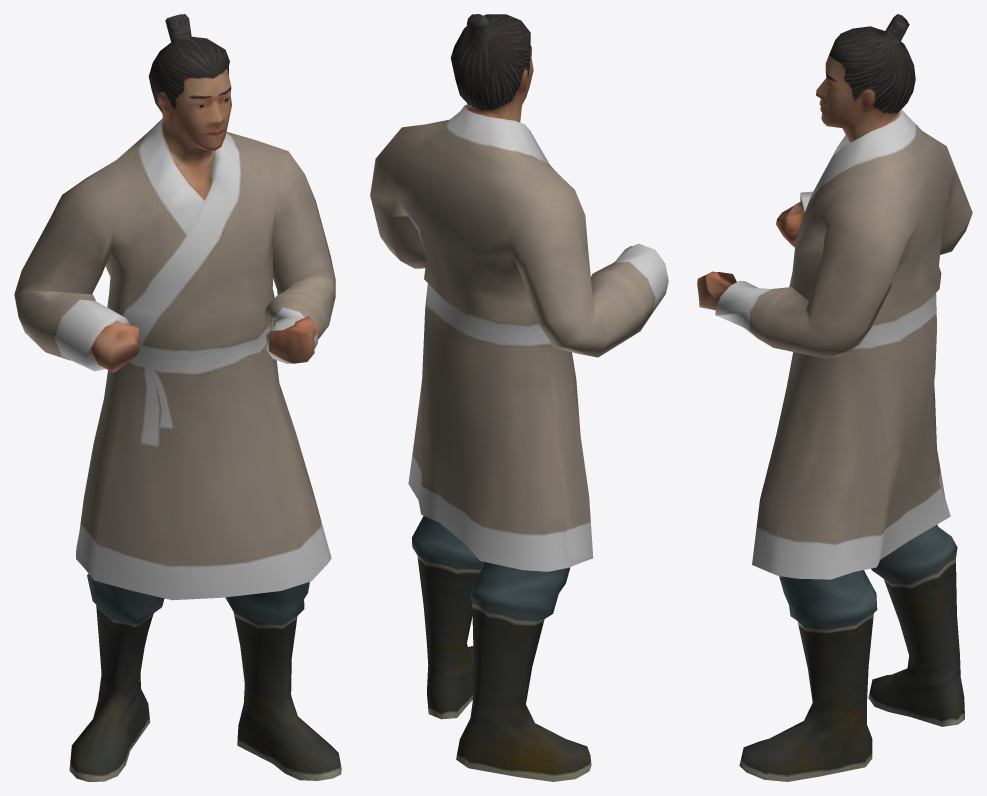
The model's file is body-base.glb.
3 views of the same model, side by side, from view 1: azimuth 30°, elevation 25°; view 2: azimuth 150°, elevation 25°; view 3: azimuth 270°, elevation 25° (orthographic).
Size of the model in its own units: 0.8319 by 2.11 by 0.7278.
Materials: 1 (1 with a texture image).
